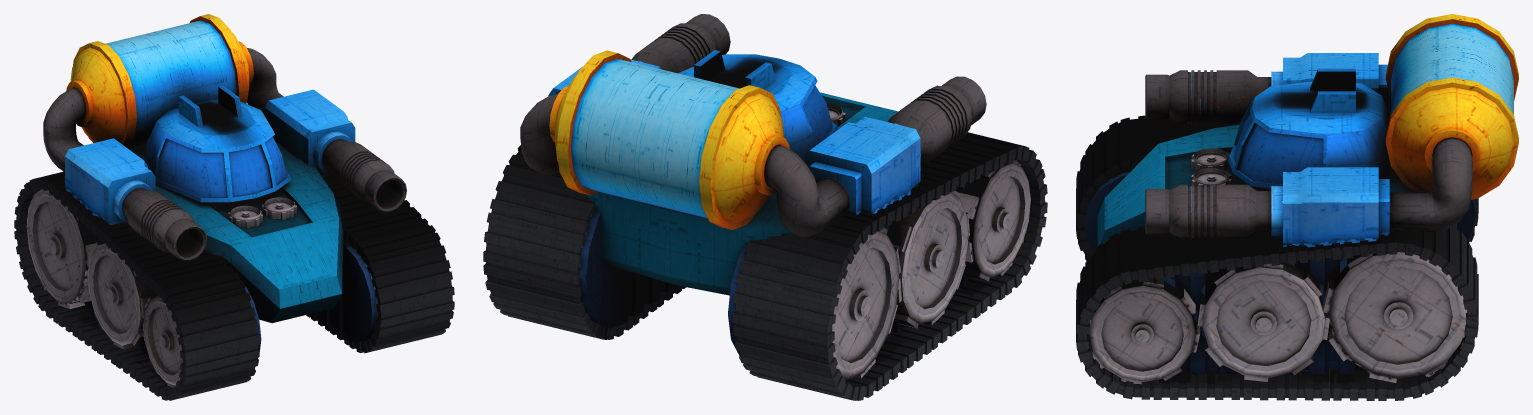
File: PlayerB11.obj
The picture shows the model from 3 angles, left to right: view 1: azimuth 30°, elevation 25°; view 2: azimuth 150°, elevation 25°; view 3: azimuth 270°, elevation 25°; orthographic projection. The views are drawn at different scales.
Parts seen in each view (by area): view 1: Object001, Box042, Object004, Object003, Object002; view 2: Object001, Box042, Object003, Object004, Object002; view 3: Object001, Box042, Object004, Object003, Object002.
Part boxes in pixels (<box>): Object001: <box>43,14,406,357</box>; Box042: <box>14,171,454,400</box>; Object004: <box>26,189,100,308</box>; Object003: <box>87,241,156,349</box>; Object002: <box>142,295,182,387</box>; Object001: <box>520,14,986,355</box>; Box042: <box>483,132,1047,400</box>; Object003: <box>887,190,969,328</box>; Object004: <box>832,227,900,381</box>; Object002: <box>958,159,1030,281</box>; Object001: <box>1084,14,1518,374</box>; Box042: <box>1076,115,1478,400</box>; Object004: <box>1323,252,1466,382</box>; Object003: <box>1197,262,1329,381</box>; Object002: <box>1089,277,1200,384</box>.
Size of the model in its own units: 121 by 101 by 147.
Materials: 2 (2 with a texture image).
